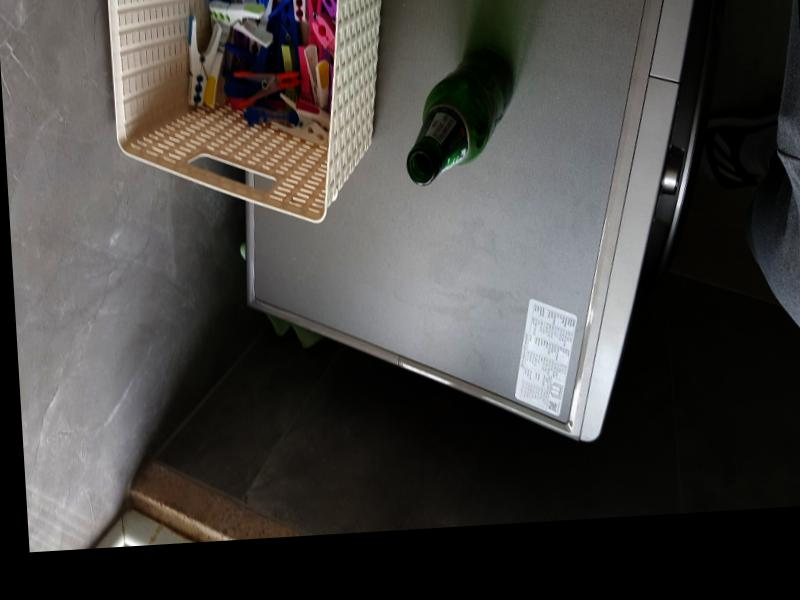Beer: (401, 47, 520, 187)
